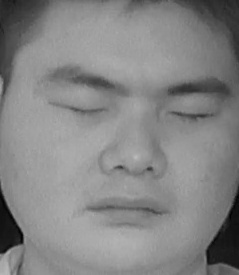blink: (52, 91, 111, 128), (169, 98, 215, 128)
mouth: (86, 183, 171, 231)
